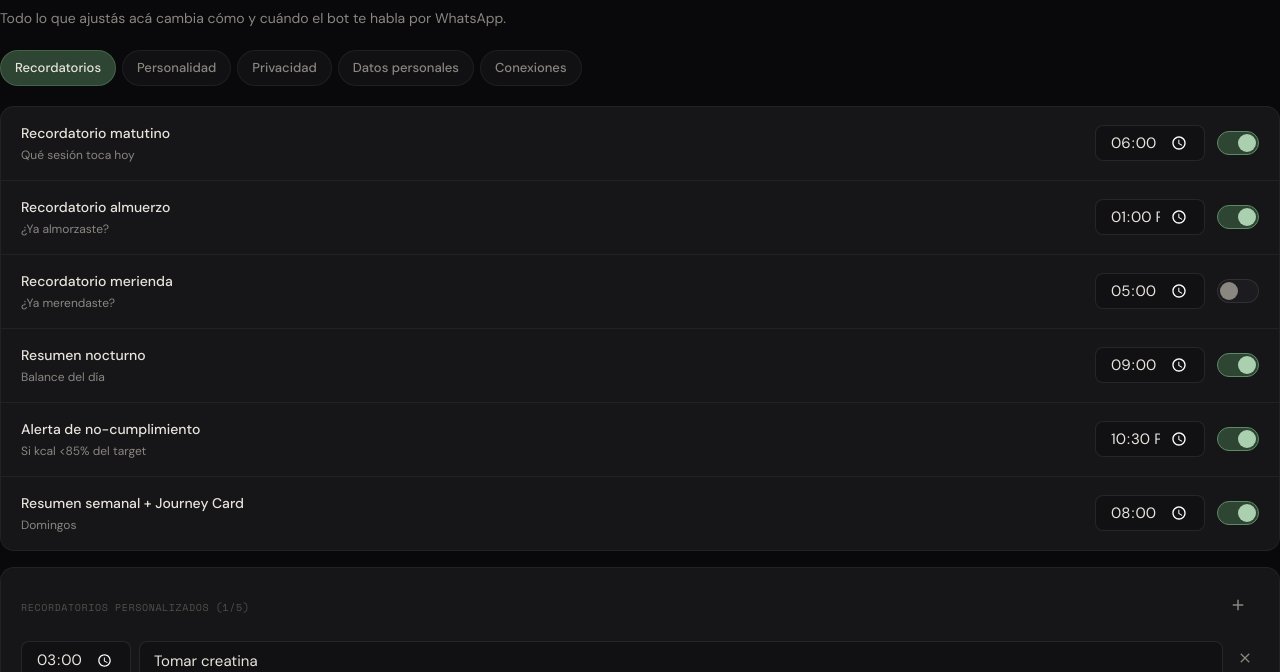
Test case: Settings › lists reminders, toggles one, and adds a custom reminder
Expected: the text "Recordatorio matutino" is shown, [21, 124, 170, 142]
Click the button named "Recordatorio matutino": coordinates (1238, 143) [1217, 131, 1259, 155]
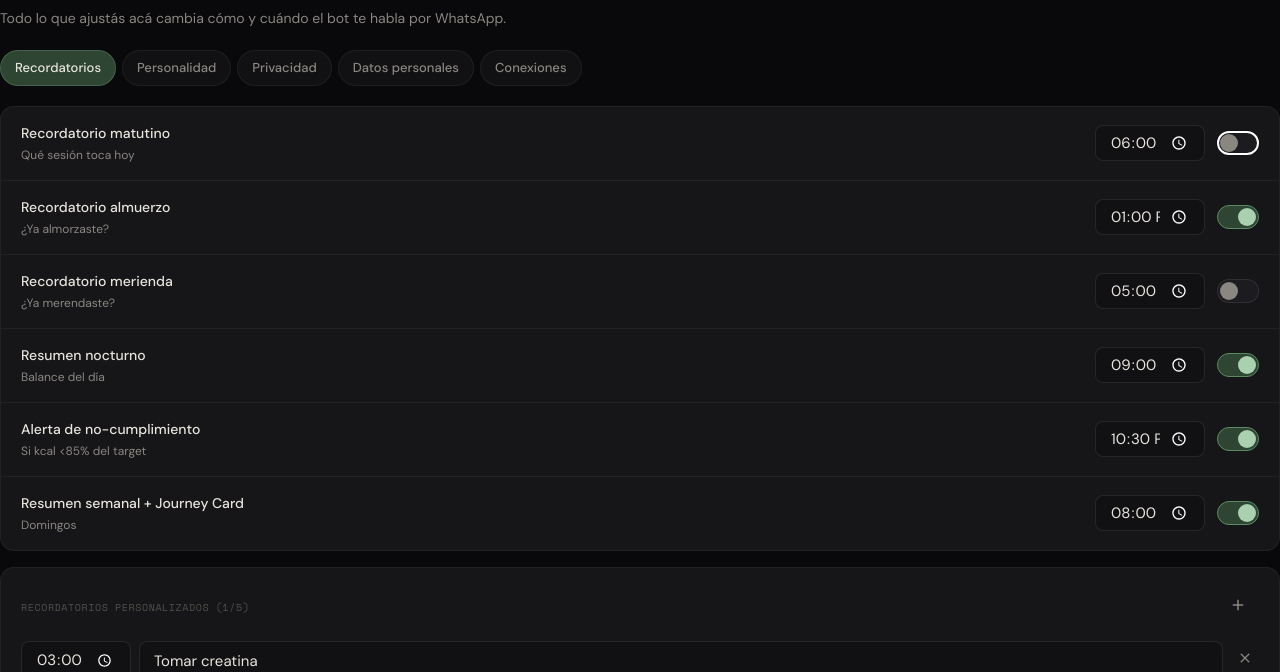
Expected: the text "Recordatorios personalizados (1/5)" is shown, [21, 603, 250, 613]
Expected: the button named "Recordatorio matutino" is not pressed, [1217, 131, 1259, 155]
Click the button named "add" in the row of "/5)": coordinates (1238, 608) [1217, 588, 1259, 629]
(page scrolled)
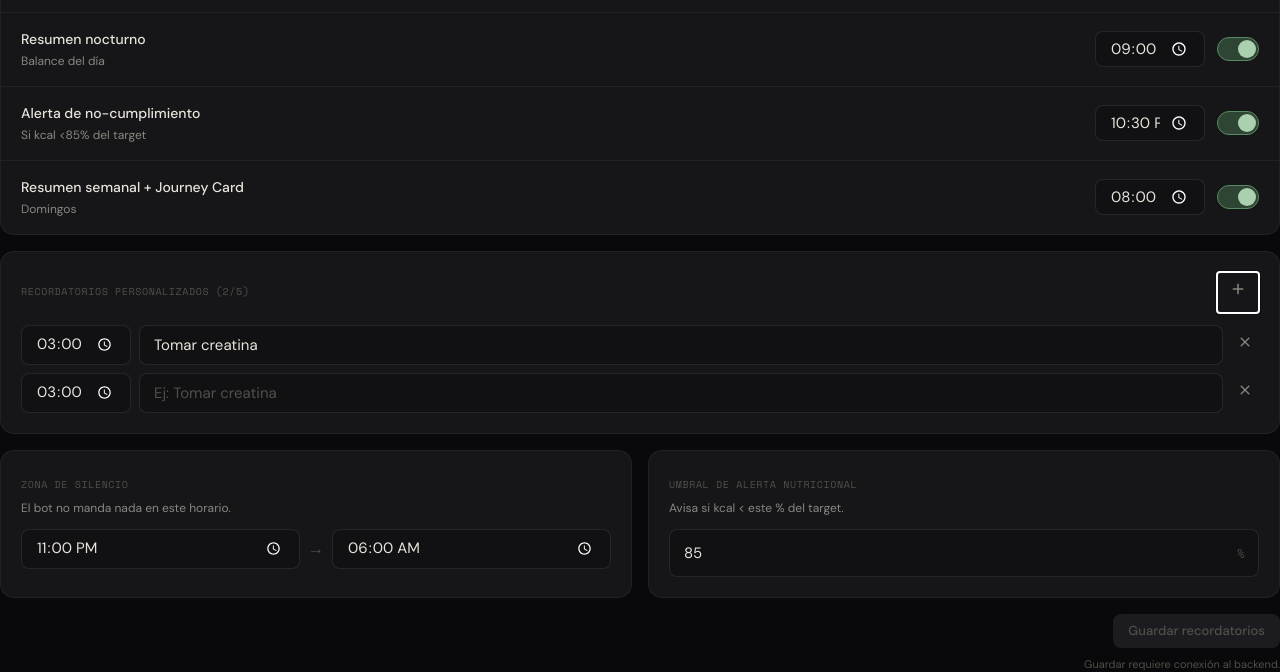
Expected: the button "Guardar recordatorios" is disabled, [1113, 614, 1279, 648]
Expected: the text "Recordatorios personalizados (2/5)" is shown, [21, 287, 250, 297]
